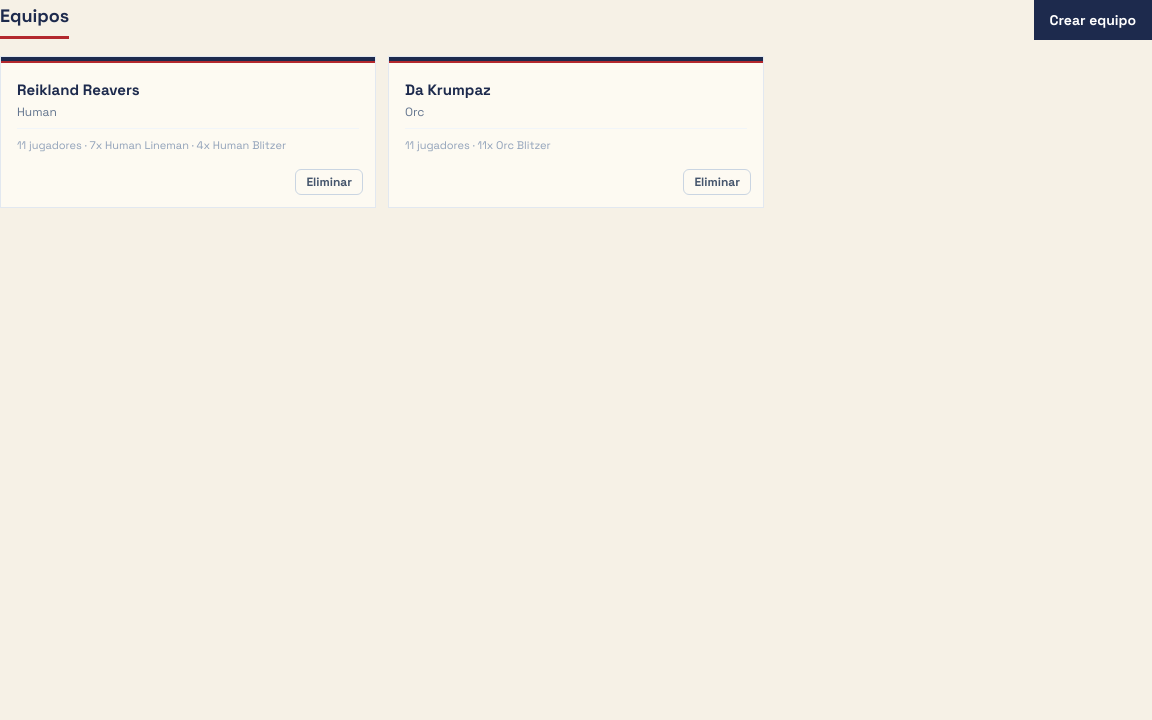
Scenario: TeamList › Cancelar closes the dialog and keeps the team in the list
Expected: the heading "Reikland Reavers" is shown, x1=17 y1=80 x2=140 y2=99
Click the button with aria-label "Eliminar Reikland Reavers" at coordinates (329, 182), box x1=295 y1=169 x2=363 y2=195
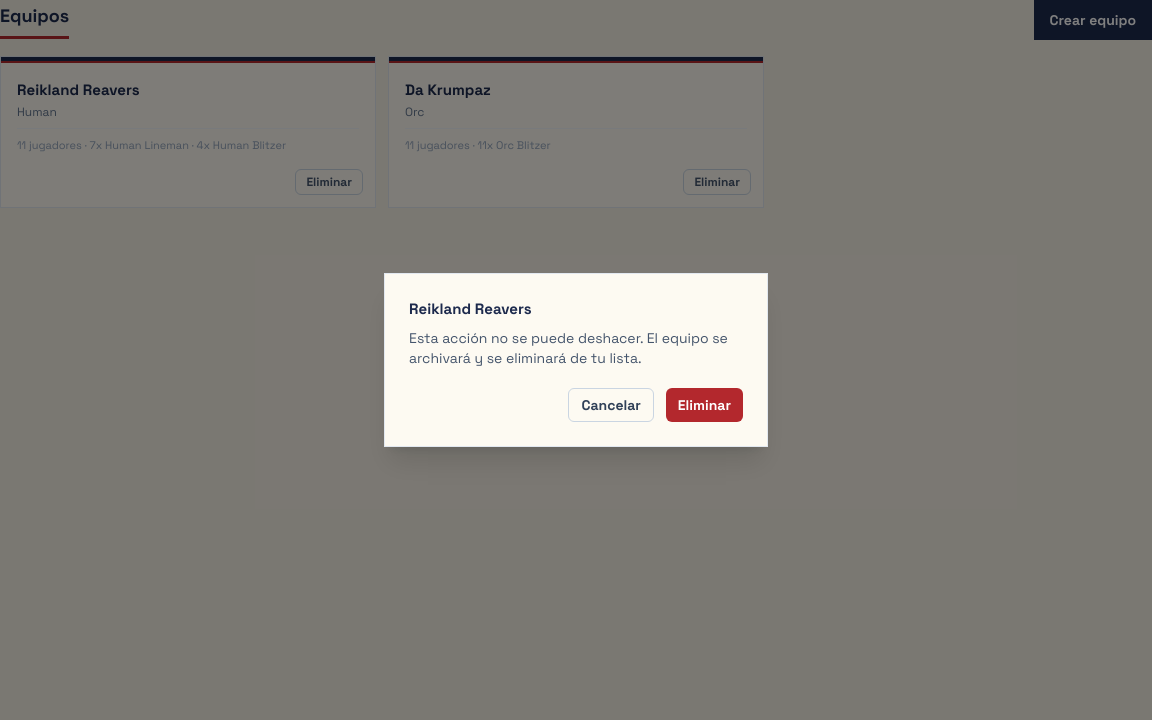
Result: the dialog is shown at x1=384 y1=273 x2=768 y2=447
Click the button "Cancelar" at coordinates (611, 405), box x1=568 y1=388 x2=654 y2=422
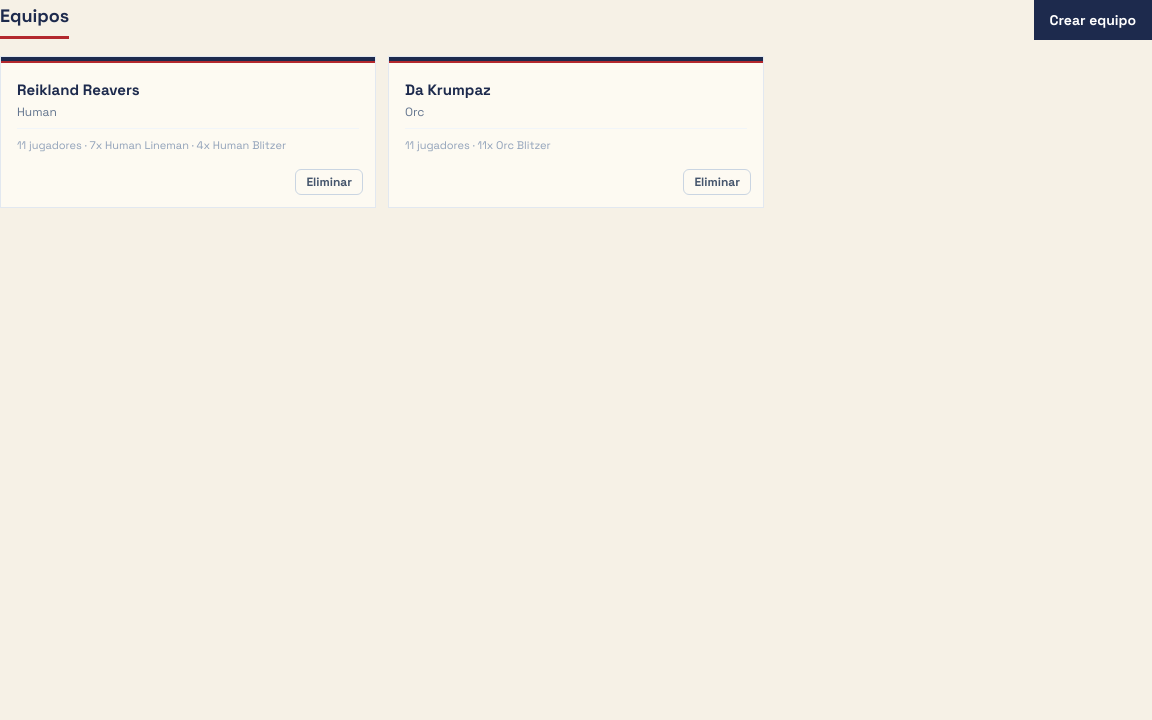
Expected: the heading "Reikland Reavers" is shown, x1=17 y1=80 x2=140 y2=99
Result: the dialog is gone
